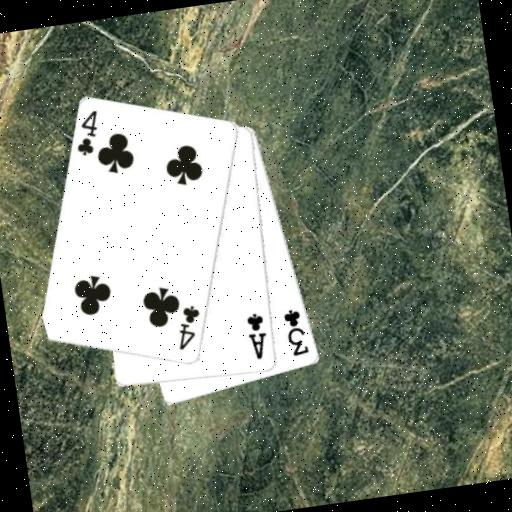3C: (280, 304, 312, 359)
4C: (69, 107, 105, 160), (170, 302, 206, 353)
AC: (242, 309, 272, 362)
